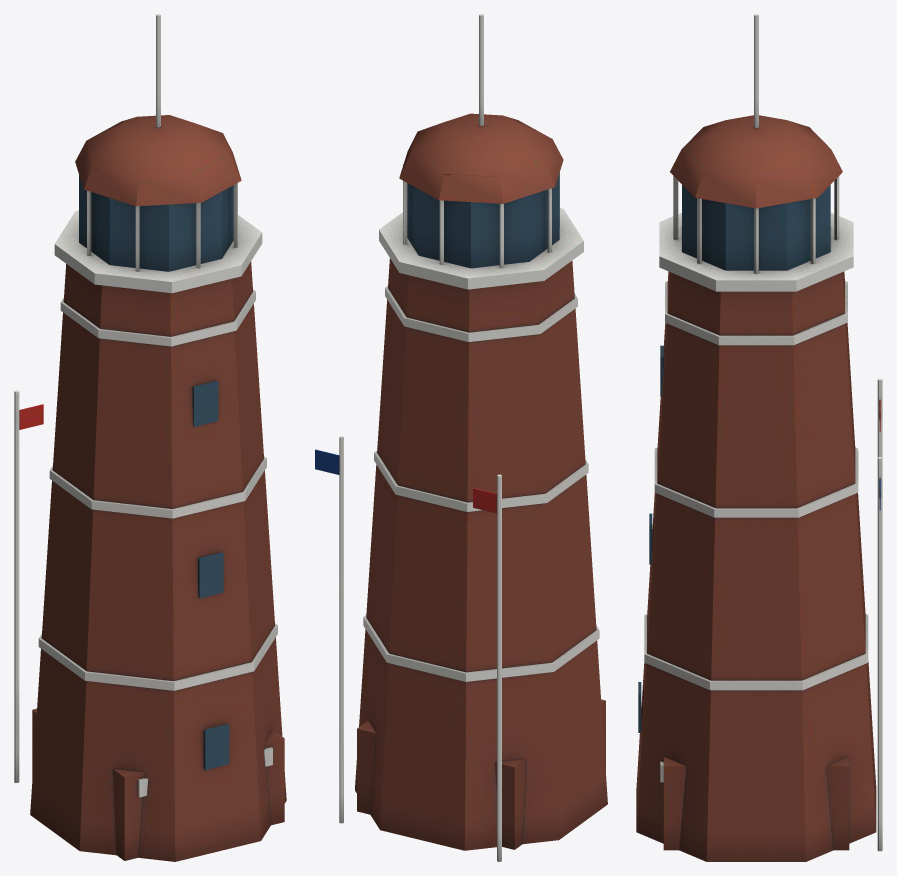
File: observatorio_portland.glb
The picture shows the model from 3 angles, left to right: view 1: azimuth 30°, elevation 25°; view 2: azimuth 150°, elevation 25°; view 3: azimuth 270°, elevation 25°; orthographic projection.
Parts seen in each view (by area): view 1: observatorio_portland; view 2: observatorio_portland; view 3: observatorio_portland.
Part boxes in pixels (bbox=[...]): observatorio_portland: bbox=[14, 14, 286, 861]; observatorio_portland: bbox=[315, 14, 607, 861]; observatorio_portland: bbox=[636, 14, 882, 861].
Bounding box in the file's own units: 7.88 × 28.4 × 7.96.
1 material, 1 textured.
